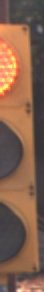Red: (2, 22, 44, 280)
